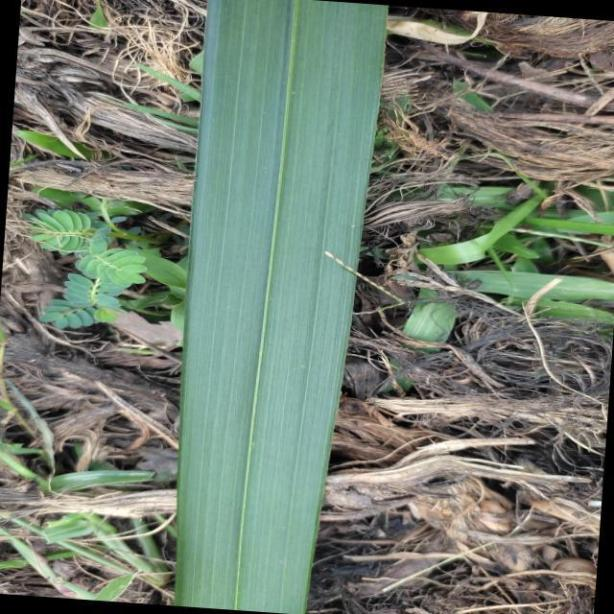Healthy: (176, 0, 387, 614)
